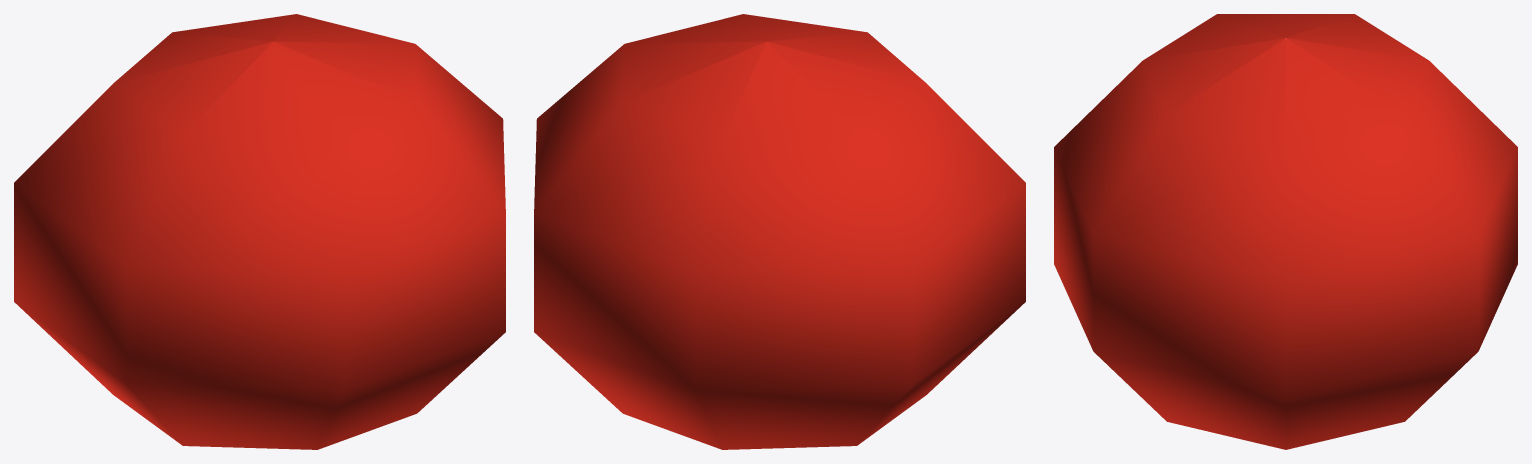
File: fruit-tomato-gold-far.glb
3 renders of one model, left to right at view 1: azimuth 30°, elevation 25°; view 2: azimuth 150°, elevation 25°; view 3: azimuth 270°, elevation 25°, orthographic.
Visible parts, largest first — view 1: fruit-tomato-far; view 2: fruit-tomato-far; view 3: fruit-tomato-far.
Part boxes in pixels (bbox=[...]): fruit-tomato-far: bbox=[14, 14, 505, 449]; fruit-tomato-far: bbox=[534, 14, 1025, 449]; fruit-tomato-far: bbox=[1054, 14, 1517, 449].
Bounding box in the file's own units: 0.3764 × 0.32 × 0.3542.
